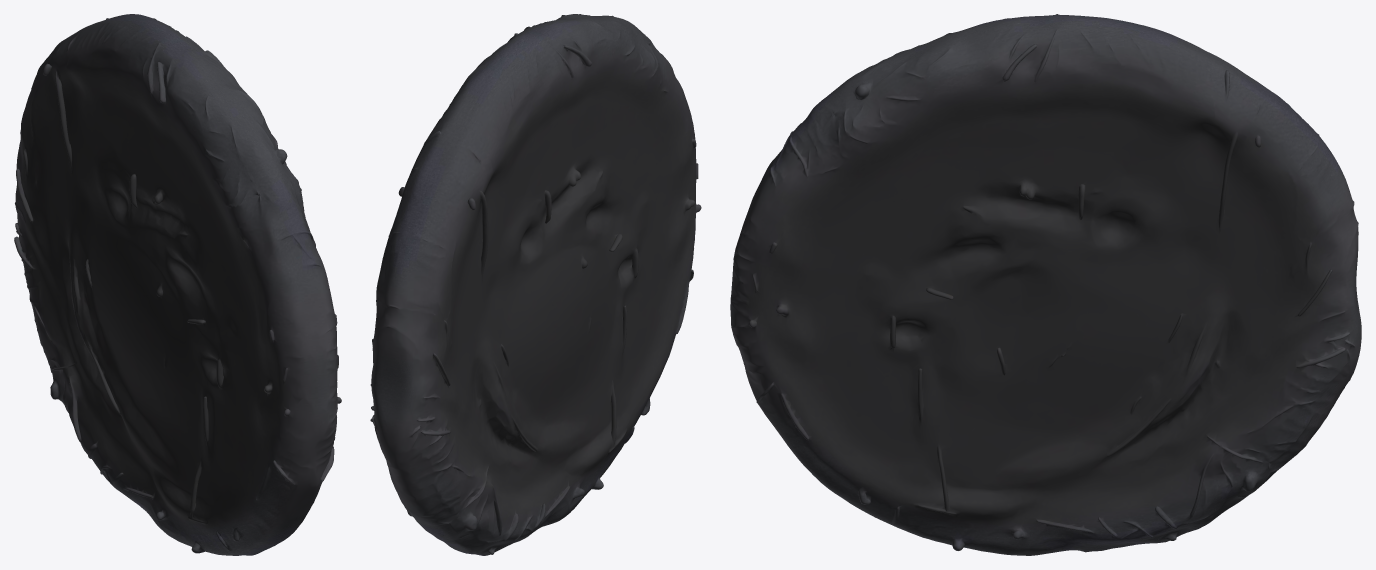
The model's file is yusuke.glb.
3 views of the same model, side by side, from view 1: azimuth 30°, elevation 25°; view 2: azimuth 150°, elevation 25°; view 3: azimuth 270°, elevation 25° (orthographic). The views are drawn at different scales.
Visible parts, largest first — view 1: tripo_node_d689f1f5-9dbb-4f5f-9abb-55d40206c32b; view 2: tripo_node_d689f1f5-9dbb-4f5f-9abb-55d40206c32b; view 3: tripo_node_d689f1f5-9dbb-4f5f-9abb-55d40206c32b.
Part boxes in pixels (<box>): tripo_node_d689f1f5-9dbb-4f5f-9abb-55d40206c32b: <box>14,14,341,555</box>; tripo_node_d689f1f5-9dbb-4f5f-9abb-55d40206c32b: <box>370,14,701,555</box>; tripo_node_d689f1f5-9dbb-4f5f-9abb-55d40206c32b: <box>730,14,1361,555</box>.
Size of the model in its own units: 0.1509 by 0.931 by 1.
1 material, 1 textured.
